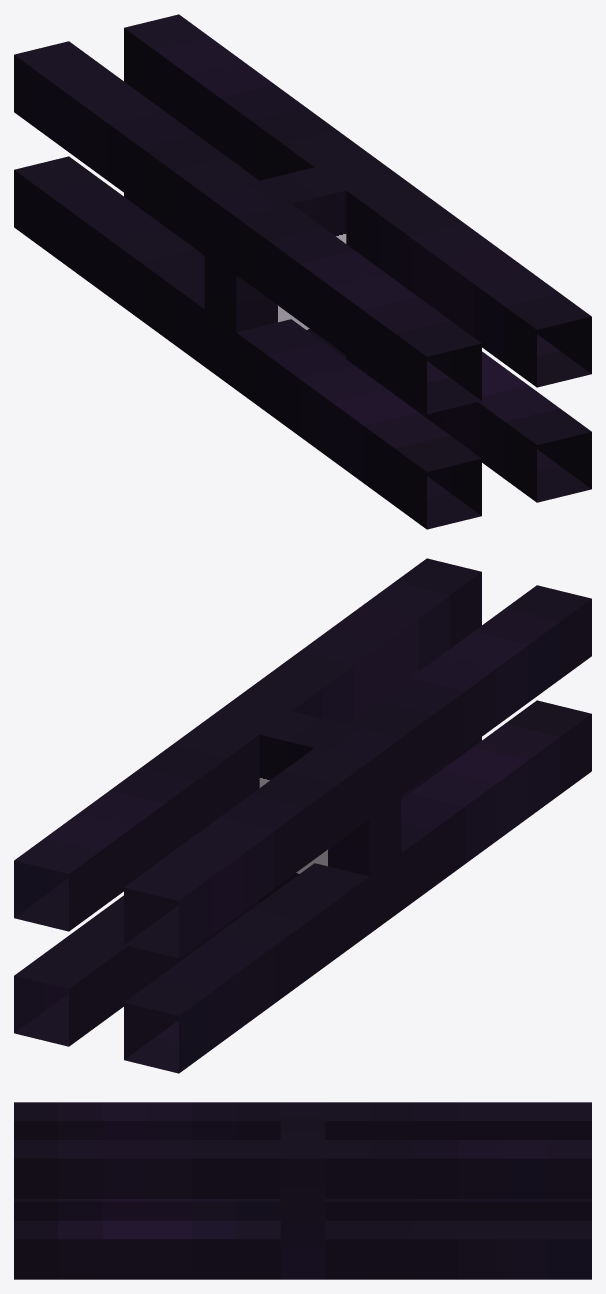
The model's file is impulse_cannon_railgun.obj.
3 renders of one model, top to bottom at view 1: azimuth 30°, elevation 25°; view 2: azimuth 150°, elevation 25°; view 3: azimuth 270°, elevation 25°, orthographic. The views are drawn at different scales.
Parts seen in each view (by area): view 1: Beam_Augment_One-Shot_cube.001; view 2: Beam_Augment_One-Shot_cube.001; view 3: Beam_Augment_One-Shot_cube.001.
Part boxes in pixels (<box>): Beam_Augment_One-Shot_cube.001: <box>14,14,591,529</box>; Beam_Augment_One-Shot_cube.001: <box>14,558,591,1073</box>; Beam_Augment_One-Shot_cube.001: <box>14,1102,591,1279</box>.
Bounding box in the file's own units: 0.0938 × 0.0938 × 0.4062.
